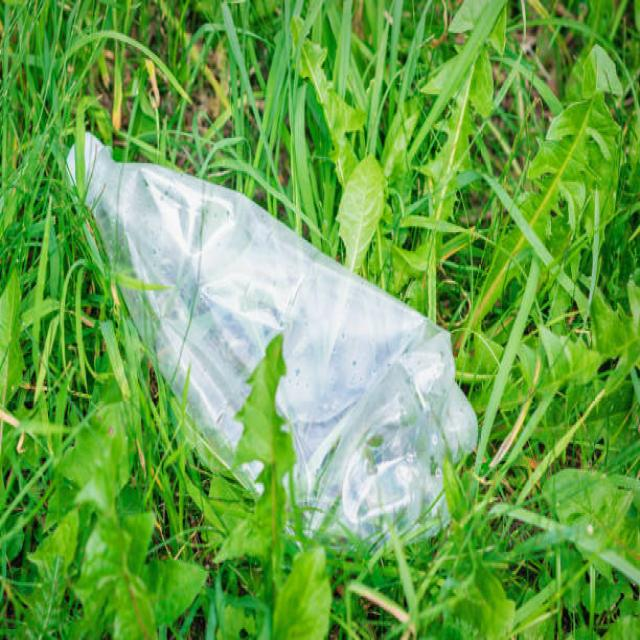plastic: (76, 137, 474, 524)
